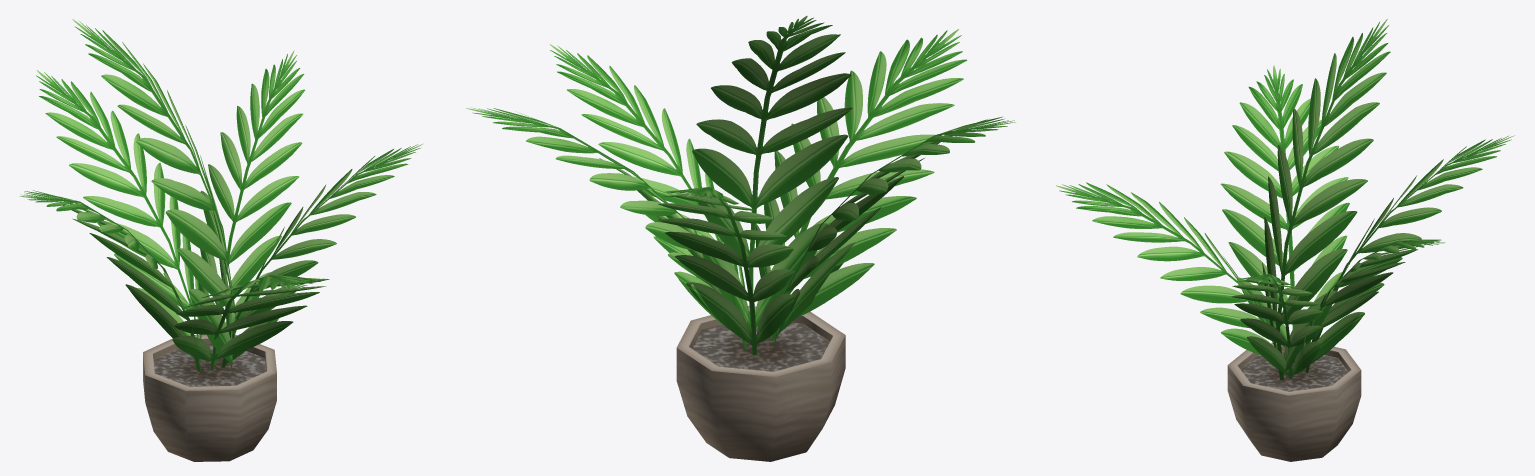
Rendered from corridor_object_plant_1.FBX.
3 renders of one model, left to right at view 1: azimuth 30°, elevation 25°; view 2: azimuth 150°, elevation 25°; view 3: azimuth 270°, elevation 25°, orthographic. The views are drawn at different scales.
Visible parts, largest first — view 1: Cylinder063, Object070, Object069, Object067, Object065, Object068, Object066; view 2: Cylinder063, Object070, Object065, Object067, Object068, Object066, Object069; view 3: Object070, Cylinder063, Object066, Object065, Object067, Object068, Object069.
Part boxes in pixels (x1,y1,x2,y2): Cylinder063: [143, 334, 276, 461]; Object070: [72, 19, 236, 370]; Object069: [199, 50, 305, 364]; Object067: [36, 70, 202, 364]; Object065: [172, 275, 329, 370]; Object068: [221, 143, 423, 367]; Object066: [19, 190, 200, 371]; Cylinder063: [676, 306, 845, 461]; Object070: [692, 16, 852, 332]; Object065: [755, 29, 967, 341]; Object067: [658, 187, 794, 355]; Object068: [550, 44, 749, 344]; Object066: [772, 116, 1015, 352]; Object069: [466, 107, 747, 349]; Object070: [1262, 19, 1390, 380]; Cylinder063: [1227, 341, 1361, 461]; Object066: [1220, 65, 1349, 348]; Object065: [1056, 182, 1277, 354]; Object067: [1305, 135, 1514, 373]; Object068: [1231, 273, 1323, 378]; Object069: [1301, 239, 1445, 377].
Size of the model in its own units: 544 by 530 by 581.
Materials: 2 (2 with a texture image).
